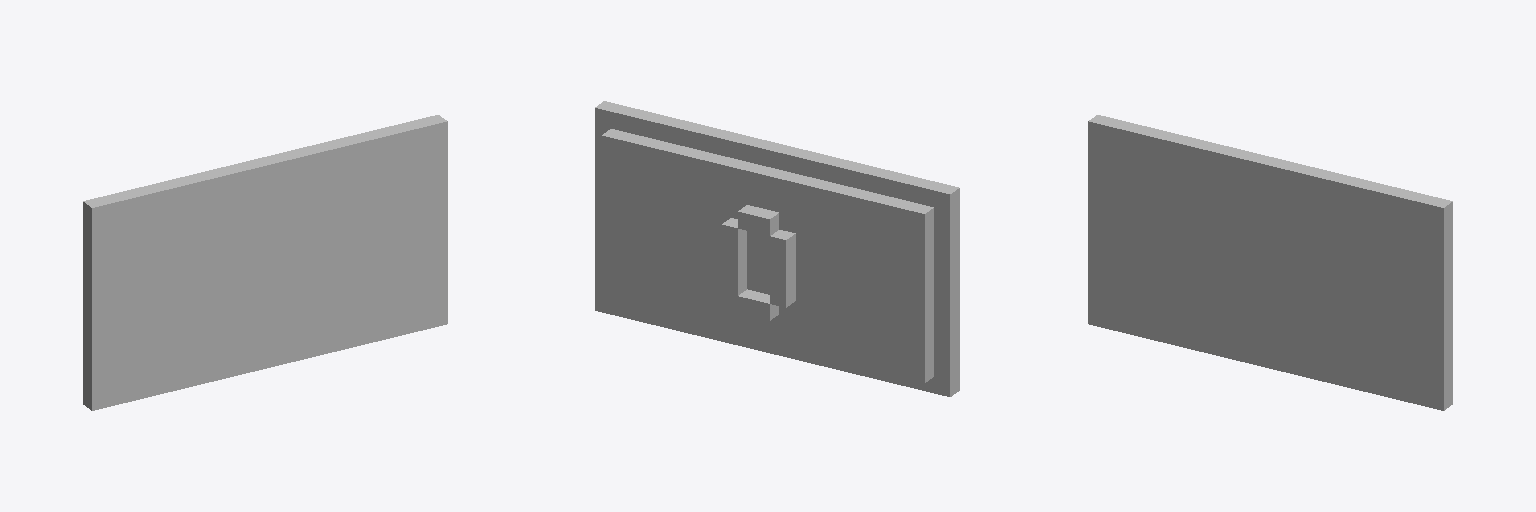
File: 3D Voxel Office Pack-66.obj
3 renders of one model, left to right at view 1: azimuth 30°, elevation 25°; view 2: azimuth 150°, elevation 25°; view 3: azimuth 330°, elevation 25°, orthographic.
Parts seen in each view (by area): view 1: object 1; view 2: object 1; view 3: object 1.
Part boxes in pixels (left/top/right/bottom): object 1: left=83, top=115, right=447, bottom=410; object 1: left=595, top=101, right=959, bottom=396; object 1: left=1088, top=115, right=1452, bottom=410.
Bounding box in the file's own units: 2.2 × 1.2 × 0.3.